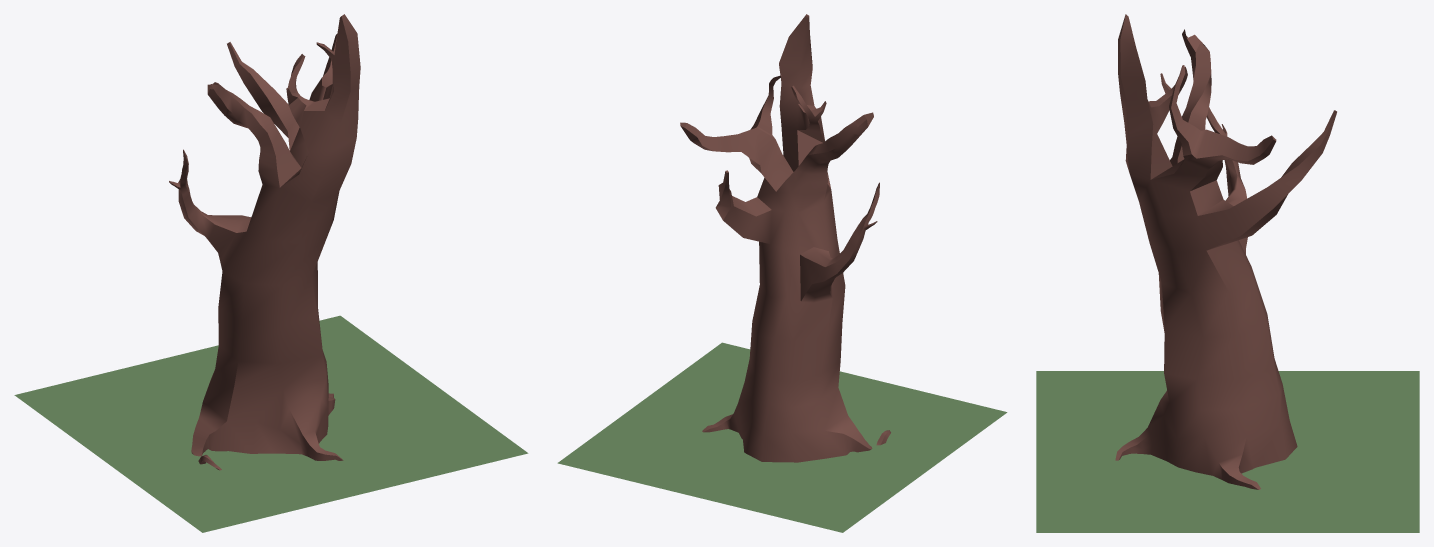
Rendered from dead tree1.fbx.
3 renders of one model, left to right at view 1: azimuth 30°, elevation 25°; view 2: azimuth 150°, elevation 25°; view 3: azimuth 270°, elevation 25°, orthographic. The views are drawn at different scales.
Parts seen in each view (by area): view 1: polySurface224; view 2: polySurface224; view 3: polySurface224.
Part boxes in pixels (x1,y1,x2,y2): polySurface224: [14, 14, 528, 532]; polySurface224: [557, 14, 1007, 532]; polySurface224: [1036, 14, 1419, 532].
Size of the model in its own units: 2 by 2.64 by 2.
